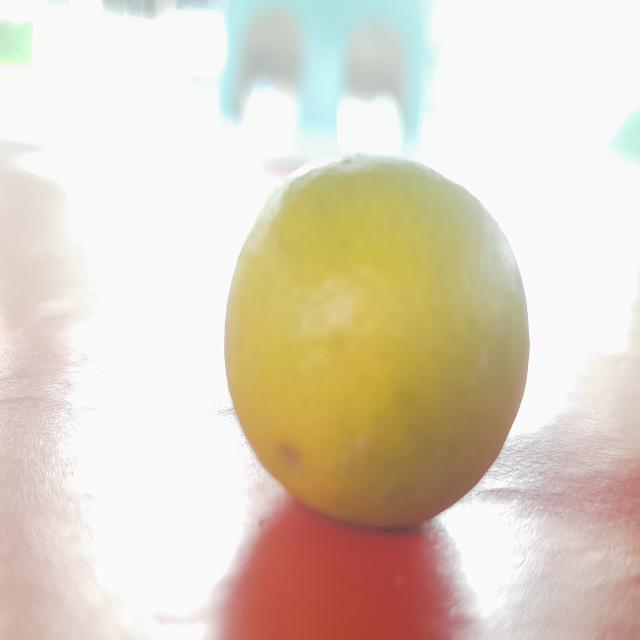greening: (222, 150, 533, 527)
